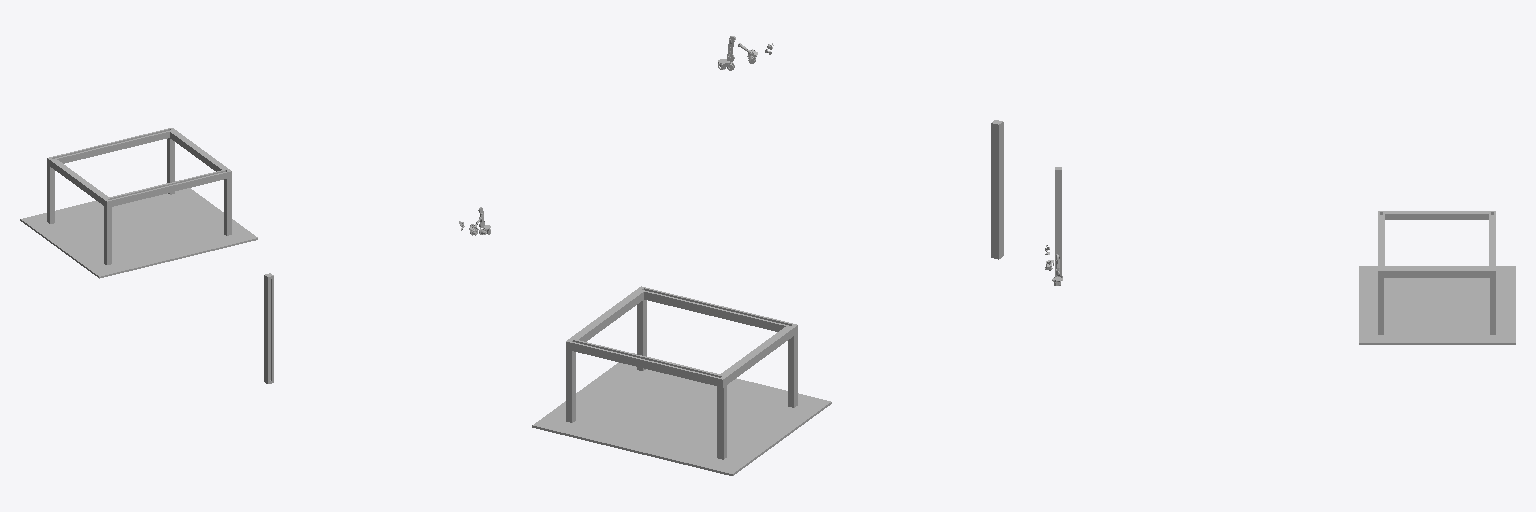
The robot description file, URDF, robot "shimizu_gantry_system":
<?xml version="1.0" encoding="utf-8"?>
<!-- This URDF was automatically created by SolidWorks to URDF Exporter! Originally created by [author] ([email redacted]) 
     Commit Version: 1.6.0-4-g7f85cfe  Build Version: 1.6.7995.38578
     For more information, please see http://wiki.ros.org/sw_urdf_exporter -->
<robot
  name="shimizu_gantry_system">
  <link
    name="gantry_x">
    <inertial>
      <origin
        xyz="11.601 4.9939 15.827"
        rpy="0 0 0" />
      <mass
        value="11710" />
      <inertia
        ixx="63802"
        ixy="2.5029E-13"
        ixz="-1.4755E-11"
        iyy="107050"
        iyz="-0.050437"
        izz="45367" />
    </inertial>
    <visual>
      <origin
        xyz="0 0 0"
        rpy="0 0 0" />
      <geometry>
        <mesh
          filename="package://shimizu_gantry_system/meshes/gantry_x.STL" />
      </geometry>
      <material
        name="">
        <color
          rgba="0.75294 0.75294 0.75294 1" />
      </material>
    </visual>
    <collision>
      <origin
        xyz="0 0 0"
        rpy="0 0 0" />
      <geometry>
        <mesh
          filename="package://shimizu_gantry_system/meshes/gantry_x.STL" />
      </geometry>
    </collision>
  </link>
  <link
    name="gantry_y">
    <inertial>
      <origin
        xyz="11.567 7.7681 0.2024"
        rpy="0 0 0" />
      <mass
        value="740.03" />
      <inertia
        ixx="17.062"
        ixy="0.002039"
        ixz="-4.9328E-14"
        iyy="2279.9"
        iyz="8.4126E-16"
        izz="2278.6" />
    </inertial>
    <visual>
      <origin
        xyz="0 0 0"
        rpy="0 0 0" />
      <geometry>
        <mesh
          filename="package://shimizu_gantry_system/meshes/gantry_y.STL" />
      </geometry>
      <material
        name="">
        <color
          rgba="0.75294 0.75294 0.75294 1" />
      </material>
    </visual>
    <collision>
      <origin
        xyz="0 0 0"
        rpy="0 0 0" />
      <geometry>
        <mesh
          filename="package://shimizu_gantry_system/meshes/gantry_y.STL" />
      </geometry>
    </collision>
  </link>
  <joint
    name="linear_joint_x_to_y"
    type="prismatic">
    <origin
      xyz="0 -16.199 0"
      rpy="1.5708 0 0" />
    <parent
      link="gantry_x" />
    <child
      link="gantry_y" />
    <axis
      xyz="0 0 1" />
    <limit
      lower="0"
      upper="0"
      effort="0"
      velocity="0" />
  </joint>
  <link
    name="base">
    <inertial>
      <origin
        xyz="0.36884 7.2709 17.038"
        rpy="0 0 0" />
      <mass
        value="645.33" />
      <inertia
        ixx="213.99"
        ixy="0.12239"
        ixz="-0.00078064"
        iyy="42.439"
        iyz="-0.00056304"
        izz="227.81" />
    </inertial>
    <visual>
      <origin
        xyz="0 0 0"
        rpy="0 0 0" />
      <geometry>
        <mesh
          filename="package://shimizu_gantry_system/meshes/base.STL" />
      </geometry>
      <material
        name="">
        <color
          rgba="0.75294 0.75294 0.75294 1" />
      </material>
    </visual>
    <collision>
      <origin
        xyz="0 0 0"
        rpy="0 0 0" />
      <geometry>
        <mesh
          filename="package://shimizu_gantry_system/meshes/base.STL" />
      </geometry>
    </collision>
  </link>
  <joint
    name="linear_joint_y_to_base"
    type="prismatic">
    <origin
      xyz="12.22 0 -16.852"
      rpy="0 0 0" />
    <parent
      link="gantry_y" />
    <child
      link="base" />
    <axis
      xyz="1 0 0" />
    <limit
      lower="0"
      upper="0"
      effort="0"
      velocity="0" />
  </joint>
  <link
    name="link_1">
    <inertial>
      <origin
        xyz="0.15386 -0.01084 -0.23834"
        rpy="0 0 0" />
      <mass
        value="39.488" />
      <inertia
        ixx="0.82415"
        ixy="-0.13884"
        ixz="-0.16266"
        iyy="1.5307"
        iyz="0.086028"
        izz="1.6236" />
    </inertial>
    <visual>
      <origin
        xyz="0 0 0"
        rpy="0 0 0" />
      <geometry>
        <mesh
          filename="package://shimizu_gantry_system/meshes/link_1.STL" />
      </geometry>
      <material
        name="">
        <color
          rgba="0.75294 0.75294 0.75294 1" />
      </material>
    </visual>
    <collision>
      <origin
        xyz="0 0 0"
        rpy="0 0 0" />
      <geometry>
        <mesh
          filename="package://shimizu_gantry_system/meshes/link_1.STL" />
      </geometry>
    </collision>
  </link>
  <joint
    name="joint_1"
    type="continuous">
    <origin
      xyz="0.44563 5.7729 17.038"
      rpy="-1.5708 -0.29756 3.1416" />
    <parent
      link="base" />
    <child
      link="link_1" />
    <axis
      xyz="0 0 1" />
  </joint>
  <link
    name="link_2">
    <inertial>
      <origin
        xyz="0.020078 0.20905 0.39436"
        rpy="0 0 0" />
      <mass
        value="26.224" />
      <inertia
        ixx="2.763"
        ixy="-0.0029339"
        ixz="-0.019264"
        iyy="2.8501"
        iyz="-0.03169"
        izz="0.15604" />
    </inertial>
    <visual>
      <origin
        xyz="0 0 0"
        rpy="0 0 0" />
      <geometry>
        <mesh
          filename="package://shimizu_gantry_system/meshes/link_2.STL" />
      </geometry>
      <material
        name="">
        <color
          rgba="0.75294 0.75294 0.75294 1" />
      </material>
    </visual>
    <collision>
      <origin
        xyz="0 0 0"
        rpy="0 0 0" />
      <geometry>
        <mesh
          filename="package://shimizu_gantry_system/meshes/link_2.STL" />
      </geometry>
    </collision>
  </link>
  <joint
    name="joint_2"
    type="continuous">
    <origin
      xyz="0.32 0 -0.1973"
      rpy="0 1.4788 0" />
    <parent
      link="link_1" />
    <child
      link="link_2" />
    <axis
      xyz="0 1 0" />
  </joint>
  <link
    name="link_3">
    <inertial>
      <origin
        xyz="0.1709 0.0054369 0.13441"
        rpy="0 0 0" />
      <mass
        value="41.069" />
      <inertia
        ixx="0.9459"
        ixy="-0.009691"
        ixz="-0.49973"
        iyy="2.6922"
        iyz="-0.024445"
        izz="2.2908" />
    </inertial>
    <visual>
      <origin
        xyz="0 0 0"
        rpy="0 0 0" />
      <geometry>
        <mesh
          filename="package://shimizu_gantry_system/meshes/link_3.STL" />
      </geometry>
      <material
        name="">
        <color
          rgba="0.75294 0.75294 0.75294 1" />
      </material>
    </visual>
    <collision>
      <origin
        xyz="0 0 0"
        rpy="0 0 0" />
      <geometry>
        <mesh
          filename="package://shimizu_gantry_system/meshes/link_3.STL" />
      </geometry>
    </collision>
  </link>
  <joint
    name="joint_3"
    type="continuous">
    <origin
      xyz="0 0 0.87"
      rpy="0 -0.47456 0" />
    <parent
      link="link_2" />
    <child
      link="link_3" />
    <axis
      xyz="0 1 0" />
  </joint>
  <link
    name="link_4">
    <inertial>
      <origin
        xyz="0.155 -0.0026884 -7.173E-06"
        rpy="0 0 0" />
      <mass
        value="2.0071" />
      <inertia
        ixx="0.0038933"
        ixy="0.00064975"
        ixz="8.2833E-07"
        iyy="0.013325"
        iyz="-4.7487E-07"
        izz="0.013382" />
    </inertial>
    <visual>
      <origin
        xyz="0 0 0"
        rpy="0 0 0" />
      <geometry>
        <mesh
          filename="package://shimizu_gantry_system/meshes/link_4.STL" />
      </geometry>
      <material
        name="">
        <color
          rgba="0.75294 0.75294 0.75294 1" />
      </material>
    </visual>
    <collision>
      <origin
        xyz="0 0 0"
        rpy="0 0 0" />
      <geometry>
        <mesh
          filename="package://shimizu_gantry_system/meshes/link_4.STL" />
      </geometry>
    </collision>
  </link>
  <joint
    name="joint_4"
    type="continuous">
    <origin
      xyz="0.77564 0.0115 0.225"
      rpy="-2.7191 0 0" />
    <parent
      link="link_3" />
    <child
      link="link_4" />
    <axis
      xyz="1 0 0" />
  </joint>
  <link
    name="link_5">
    <inertial>
      <origin
        xyz="0.050878 -0.022728 -2.9296E-11"
        rpy="0 0 0" />
      <mass
        value="3.6409" />
      <inertia
        ixx="0.0192"
        ixy="-0.0045288"
        ixz="-3.1241E-12"
        iyy="0.019576"
        iyz="2.3765E-12"
        izz="0.028883" />
    </inertial>
    <visual>
      <origin
        xyz="0 0 0"
        rpy="0 0 0" />
      <geometry>
        <mesh
          filename="package://shimizu_gantry_system/meshes/link_5.STL" />
      </geometry>
      <material
        name="">
        <color
          rgba="0.75294 0.75294 0.75294 1" />
      </material>
    </visual>
    <collision>
      <origin
        xyz="0 0 0"
        rpy="0 0 0" />
      <geometry>
        <mesh
          filename="package://shimizu_gantry_system/meshes/link_5.STL" />
      </geometry>
    </collision>
  </link>
  <joint
    name="joint_5"
    type="continuous">
    <origin
      xyz="0.25386 0 0"
      rpy="0 0.43006 0" />
    <parent
      link="link_4" />
    <child
      link="link_5" />
    <axis
      xyz="0 1 0" />
  </joint>
  <link
    name="link_6">
    <inertial>
      <origin
        xyz="1.7764E-14 -2.2024E-05 0.0030403"
        rpy="0 0 0" />
      <mass
        value="0.22702" />
      <inertia
        ixx="0.00022782"
        ixy="-1.423E-19"
        ixz="-4.513E-18"
        iyy="0.00022856"
        iyz="-3.9842E-08"
        izz="0.00043885" />
    </inertial>
    <visual>
      <origin
        xyz="0 0 0"
        rpy="0 0 0" />
      <geometry>
        <mesh
          filename="package://shimizu_gantry_system/meshes/link_6.STL" />
      </geometry>
      <material
        name="">
        <color
          rgba="0.75294 0.75294 0.75294 1" />
      </material>
    </visual>
    <collision>
      <origin
        xyz="0 0 0"
        rpy="0 0 0" />
      <geometry>
        <mesh
          filename="package://shimizu_gantry_system/meshes/link_6.STL" />
      </geometry>
    </collision>
  </link>
  <joint
    name="joint_6"
    type="continuous">
    <origin
      xyz="0.17393 -0.009 0"
      rpy="1.5708 0.6256 1.5708" />
    <parent
      link="link_5" />
    <child
      link="link_6" />
    <axis
      xyz="0 0 1" />
  </joint>
</robot>

--- Render facts (derived) ---
Views: 3 orthographic renders of the robot side by side, from view 1: azimuth 30°, elevation 25°; view 2: azimuth 150°, elevation 25°; view 3: azimuth 270°, elevation 25°.
Robot: shimizu_gantry_system — 9 links, 8 joints (6 continuous, 2 prismatic); root link gantry_x; default pose: all joints at 0.
Visible links, largest first — view 1: gantry_x, gantry_y; view 2: gantry_x, gantry_y; view 3: gantry_x, gantry_y.
Link boxes in pixels (bbox=[...]): gantry_x: bbox=[20, 128, 257, 278]; gantry_y: bbox=[264, 273, 273, 383]; gantry_x: bbox=[532, 286, 831, 475]; gantry_y: bbox=[991, 120, 1003, 259]; gantry_x: bbox=[1359, 211, 1515, 344]; gantry_y: bbox=[1055, 167, 1061, 276].
Size in the robot's own frame: 14.2 by 24.17 by 7.07 metres.
8 mesh visuals loaded from 9 distinct referenced files (8 binary STL); not drawn: 1 (file found but could not be loaded).
